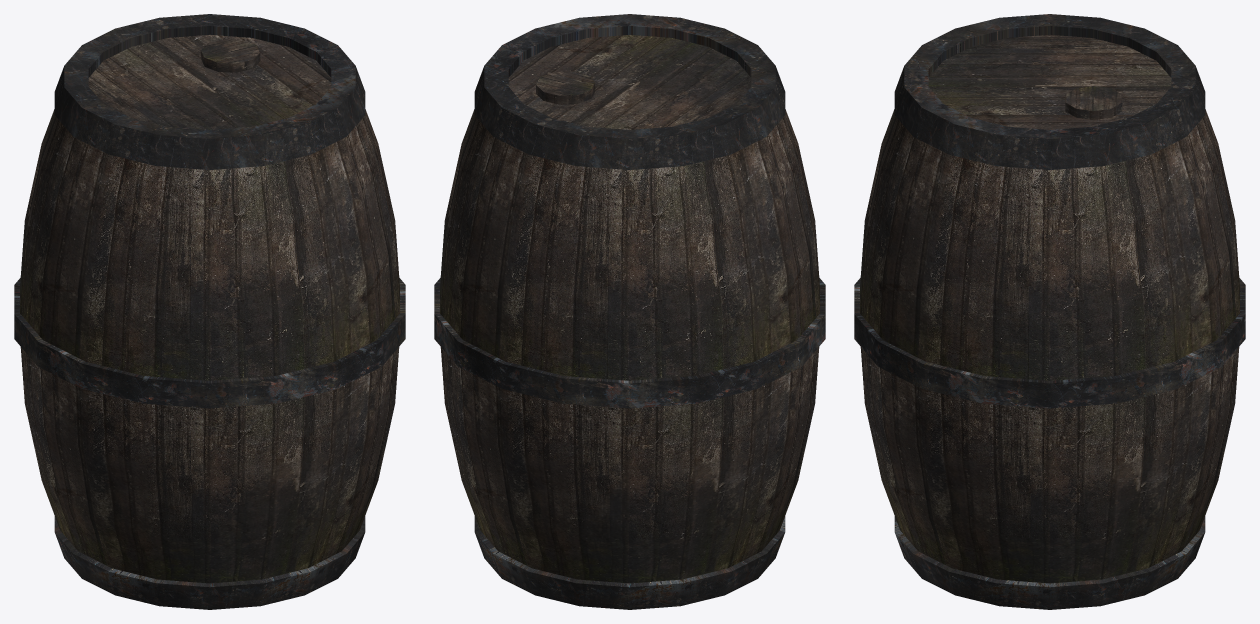
File: Barrel.fbx
The picture shows the model from 3 angles, left to right: view 1: azimuth 30°, elevation 25°; view 2: azimuth 150°, elevation 25°; view 3: azimuth 270°, elevation 25°; orthographic projection.
Visible parts, largest first — view 1: Barrel; view 2: Barrel; view 3: Barrel.
Boxes of the visible parts, x1,y1,x2,y2 form: Barrel: (14,14,405,609); Barrel: (434,14,825,609); Barrel: (854,14,1245,609).
Size of the model in its own units: 83.75 by 110 by 82.47.
